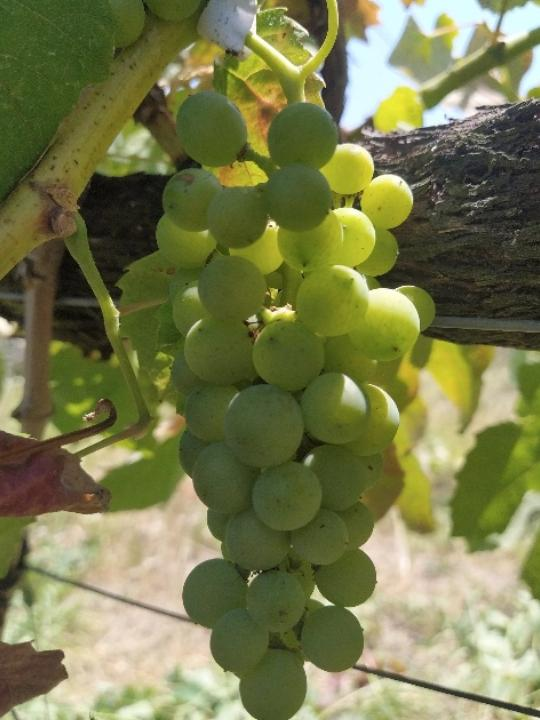grape: (155, 88, 437, 720)
